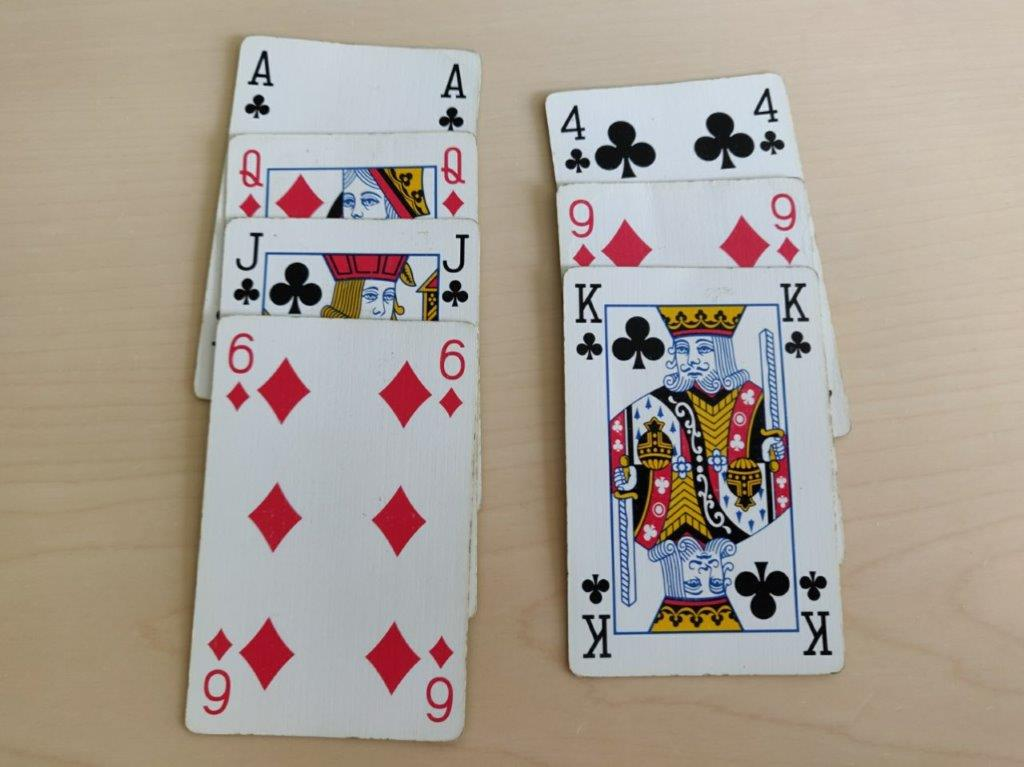4C: (750, 77, 788, 159), (554, 98, 593, 175)
6D: (219, 326, 260, 413), (434, 334, 471, 421)
9D: (562, 193, 602, 268), (768, 188, 804, 270)
AC: (240, 44, 279, 122), (434, 58, 469, 134)
JC: (438, 229, 476, 313), (229, 227, 267, 309)
KC: (777, 276, 816, 363), (571, 276, 607, 365)
QD: (438, 144, 472, 221), (235, 141, 266, 219)
